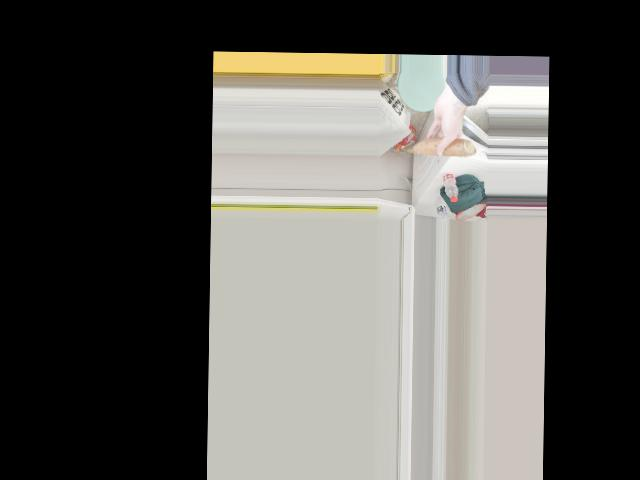sweet_potato: (410, 137, 469, 156)
